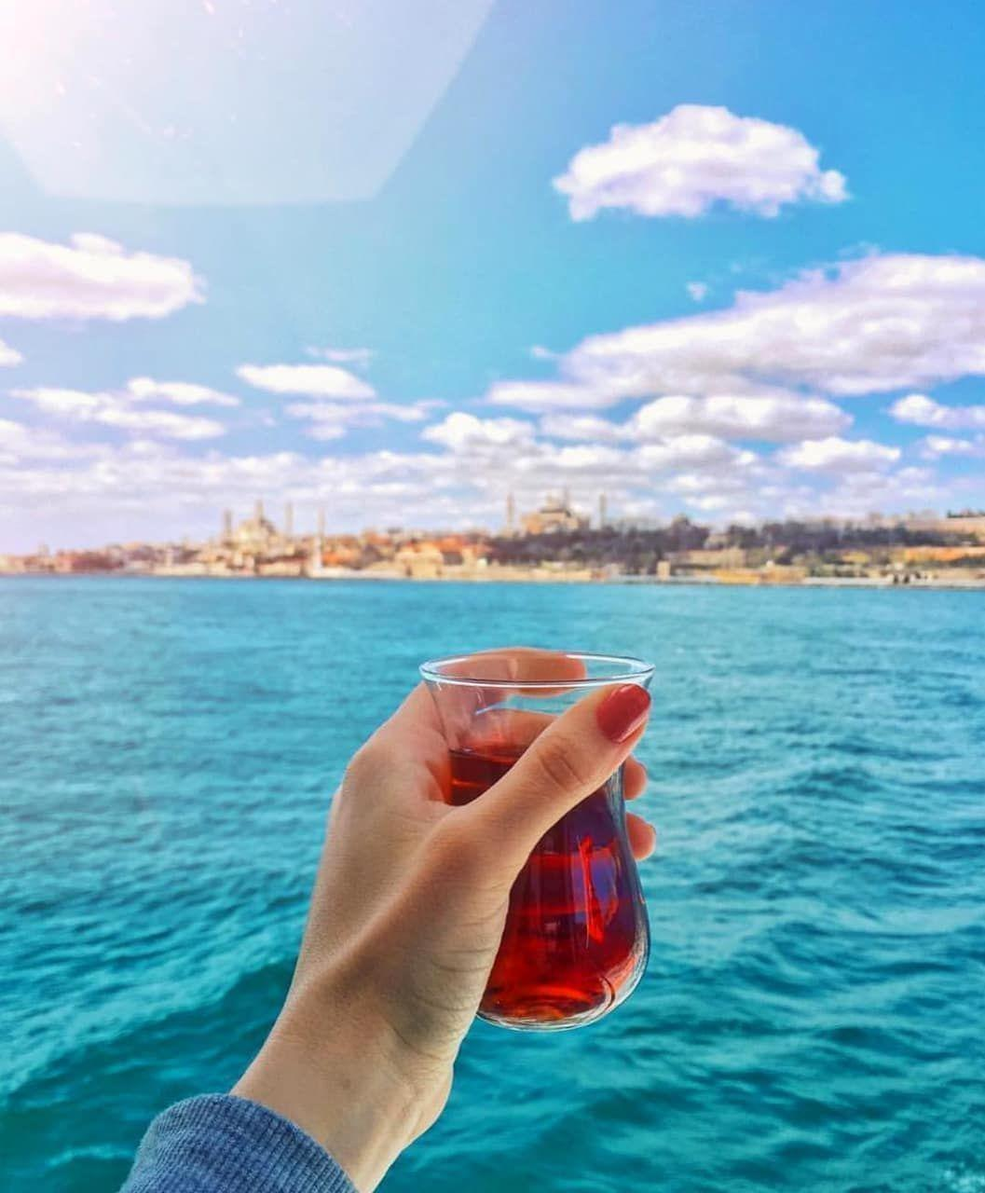glass-normal: (417, 645, 656, 1033)
